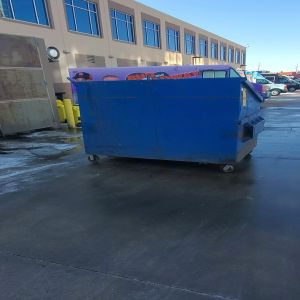Dumpster: (72, 80, 265, 175)
